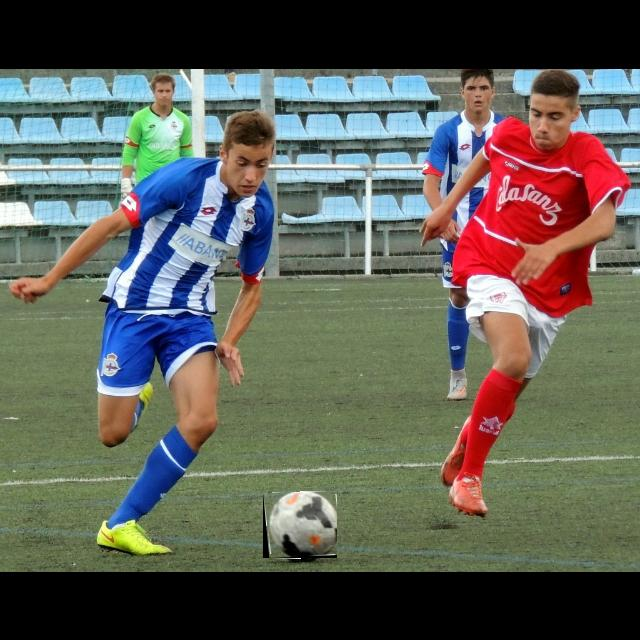Football: (263, 492, 337, 558)
